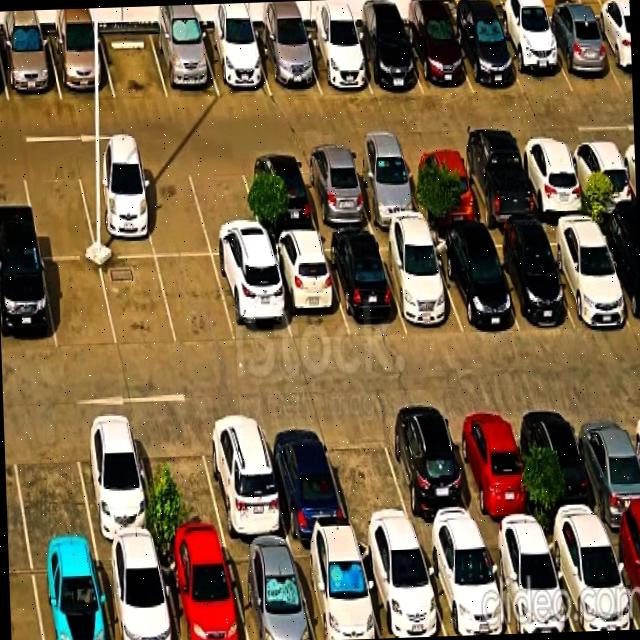empty: (320, 414, 415, 536), (135, 420, 225, 545), (9, 421, 94, 549), (186, 157, 265, 255), (135, 161, 210, 256), (21, 163, 96, 257), (156, 256, 235, 345), (100, 257, 176, 348), (42, 259, 116, 350), (99, 30, 167, 98)
occupied: (379, 410, 479, 537), (445, 407, 539, 533), (198, 413, 289, 542), (259, 417, 350, 539), (517, 404, 604, 530), (72, 420, 158, 545), (543, 526, 638, 631), (481, 533, 574, 633), (419, 535, 511, 636), (541, 223, 632, 325), (290, 540, 380, 640), (356, 539, 446, 638), (430, 233, 519, 333), (483, 231, 572, 330), (224, 544, 315, 640), (569, 403, 640, 526), (375, 235, 463, 333), (266, 237, 348, 342), (322, 235, 406, 335), (159, 545, 247, 640), (96, 546, 179, 640), (30, 548, 111, 640), (76, 162, 154, 257), (213, 255, 291, 342), (456, 146, 537, 226), (240, 155, 318, 236), (296, 153, 373, 231), (402, 149, 480, 224), (540, 19, 621, 91), (347, 152, 424, 227), (495, 20, 572, 95), (515, 141, 589, 218), (0, 255, 56, 353), (450, 20, 523, 93), (402, 20, 473, 95), (565, 140, 636, 214), (350, 25, 423, 94), (200, 30, 271, 97), (150, 30, 219, 98), (596, 222, 640, 328), (47, 32, 114, 100), (301, 30, 371, 94), (254, 31, 320, 95), (0, 34, 61, 101), (605, 523, 640, 629), (590, 18, 632, 89)
